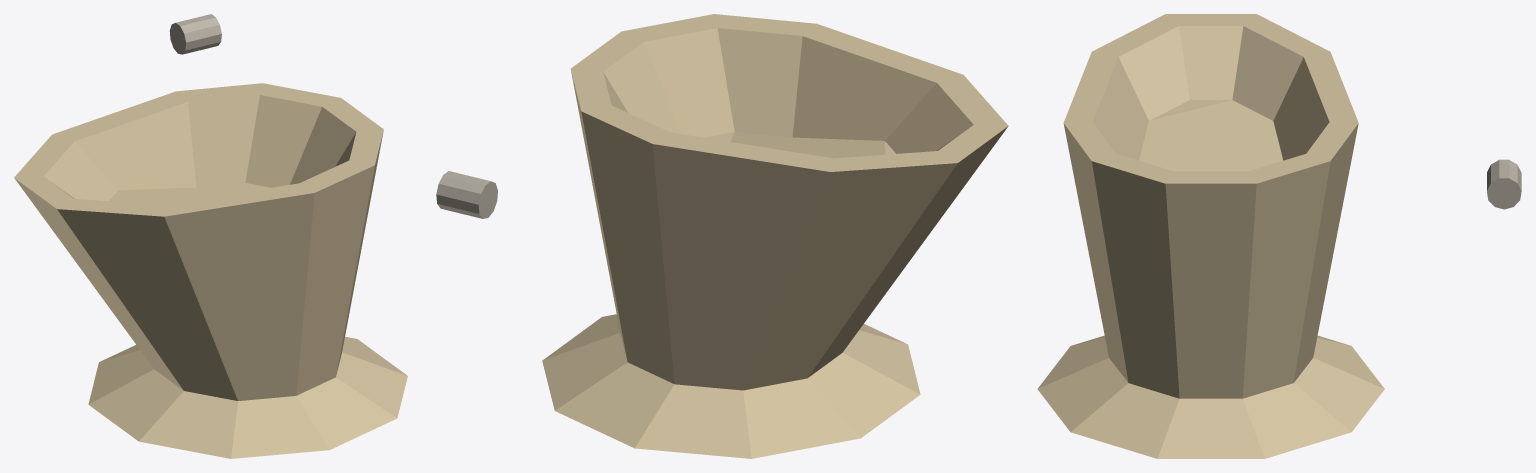
Rendered from SM_Toilet_02.fbx.
The picture shows the model from 3 angles, left to right: view 1: azimuth 30°, elevation 25°; view 2: azimuth 150°, elevation 25°; view 3: azimuth 270°, elevation 25°; orthographic projection. The views are drawn at different scales.
Parts seen in each view (by area): view 1: SM_Toilet_02; view 2: SM_Toilet_02; view 3: SM_Toilet_02.
Boxes of the visible parts, bbox=[...] form: SM_Toilet_02: bbox=[14, 14, 407, 458]; SM_Toilet_02: bbox=[436, 14, 1008, 458]; SM_Toilet_02: bbox=[1037, 14, 1521, 458].
Size of the model in its own units: 65.82 by 45.07 by 74.72.
